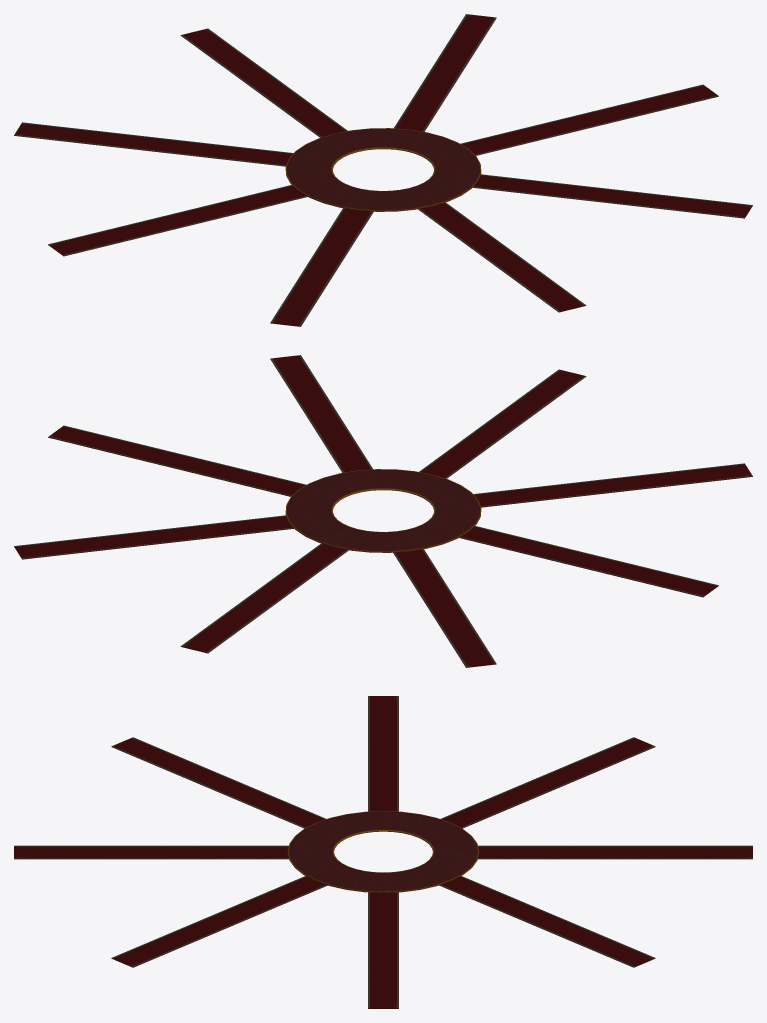
Rendered from Carpet_and_Platform.obj.
3 renders of one model, top to bottom at view 1: azimuth 30°, elevation 25°; view 2: azimuth 150°, elevation 25°; view 3: azimuth 270°, elevation 25°, orthographic. The views are drawn at different scales.
Parts seen in each view (by area): view 1: Carpet_Circle, Red_Carpet.004, Red_Carpet.002, Red_Carpet.001, Red_Carpet.003, Wooden_Base_Circle; view 2: Carpet_Circle, Red_Carpet.003, Red_Carpet.002, Red_Carpet.001, Red_Carpet.004, Wooden_Base_Circle; view 3: Carpet_Circle, Red_Carpet.001, Red_Carpet.003, Red_Carpet.004, Red_Carpet.002, Wooden_Base_Circle.
Boxes of the visible parts, x1,y1,x2,y2 form: Carpet_Circle: (286,128,480,210); Red_Carpet.004: (14,122,752,218); Red_Carpet.002: (48,84,718,256); Red_Carpet.001: (180,28,586,312); Red_Carpet.003: (270,14,496,326); Wooden_Base_Circle: (285,128,481,211); Carpet_Circle: (286,469,480,551); Red_Carpet.003: (14,463,752,559); Red_Carpet.002: (48,425,718,597); Red_Carpet.001: (180,369,586,653); Red_Carpet.004: (270,355,496,667); Wooden_Base_Circle: (285,469,481,552); Carpet_Circle: (288,811,478,891); Red_Carpet.001: (14,845,752,859); Red_Carpet.003: (111,737,655,967); Red_Carpet.004: (111,737,655,967); Red_Carpet.002: (368,696,398,1008); Wooden_Base_Circle: (287,811,479,892).
Bounding box in the file's own units: 32.62 × 0.0779 × 32.62.
